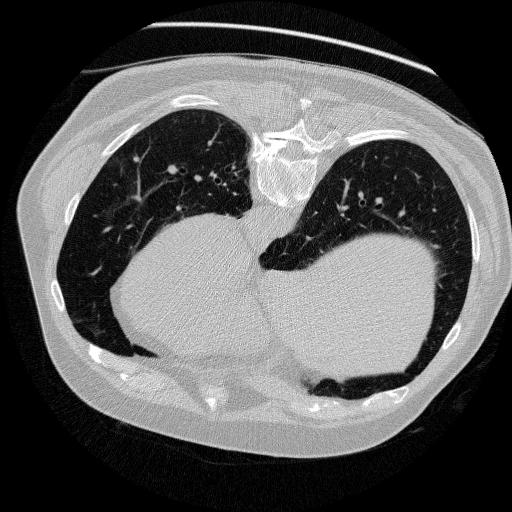nodule: (131, 154, 144, 167)
